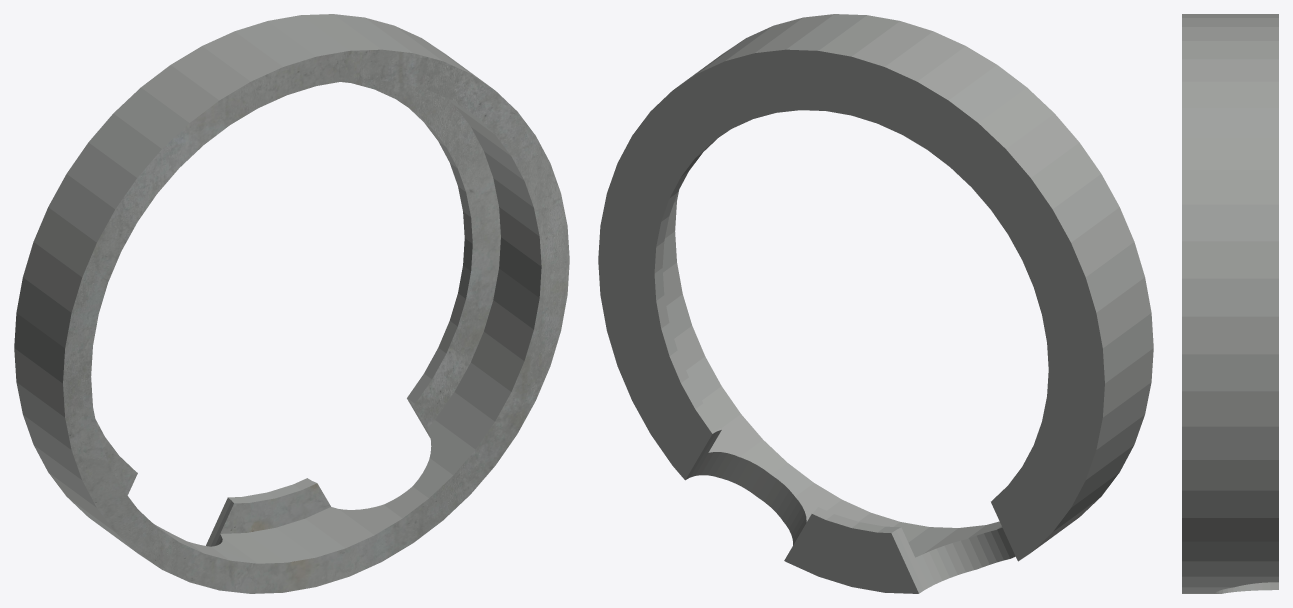
Rendered from pool_001.obj.
The picture shows the model from 3 angles, left to right: view 1: azimuth 30°, elevation 25°; view 2: azimuth 150°, elevation 25°; view 3: azimuth 270°, elevation 25°; orthographic projection.
Bounding box in the file's own units: 18 × 18 × 3.
Materials: 1 (1 with a texture image).
